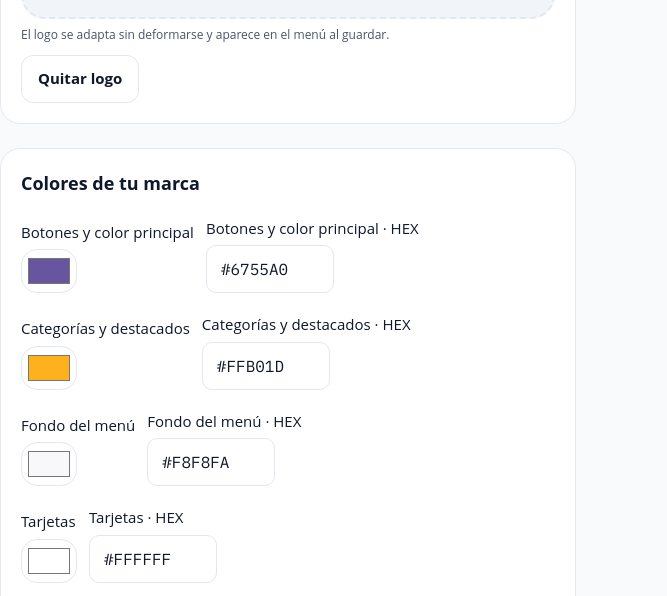
Test case: muestra el rechazo del borrador sin publicar los cambios
This screenshot has width=667, height=596.
(page scrolled)
Step 1. Replace the text in the field labelled "Botones y color principal · HEX" with "#234567" → (270, 269), box [206,245,334,293]
(page scrolled)
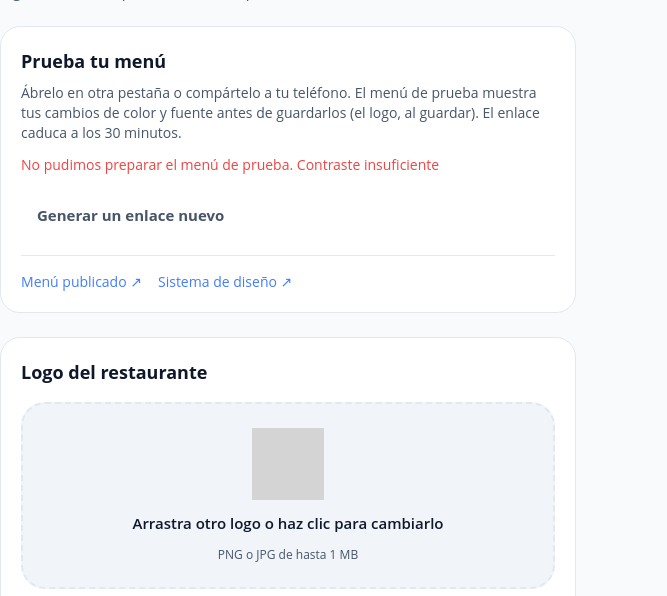
expect the message shows "Contraste insuficiente": met, box [297,155,439,174]
